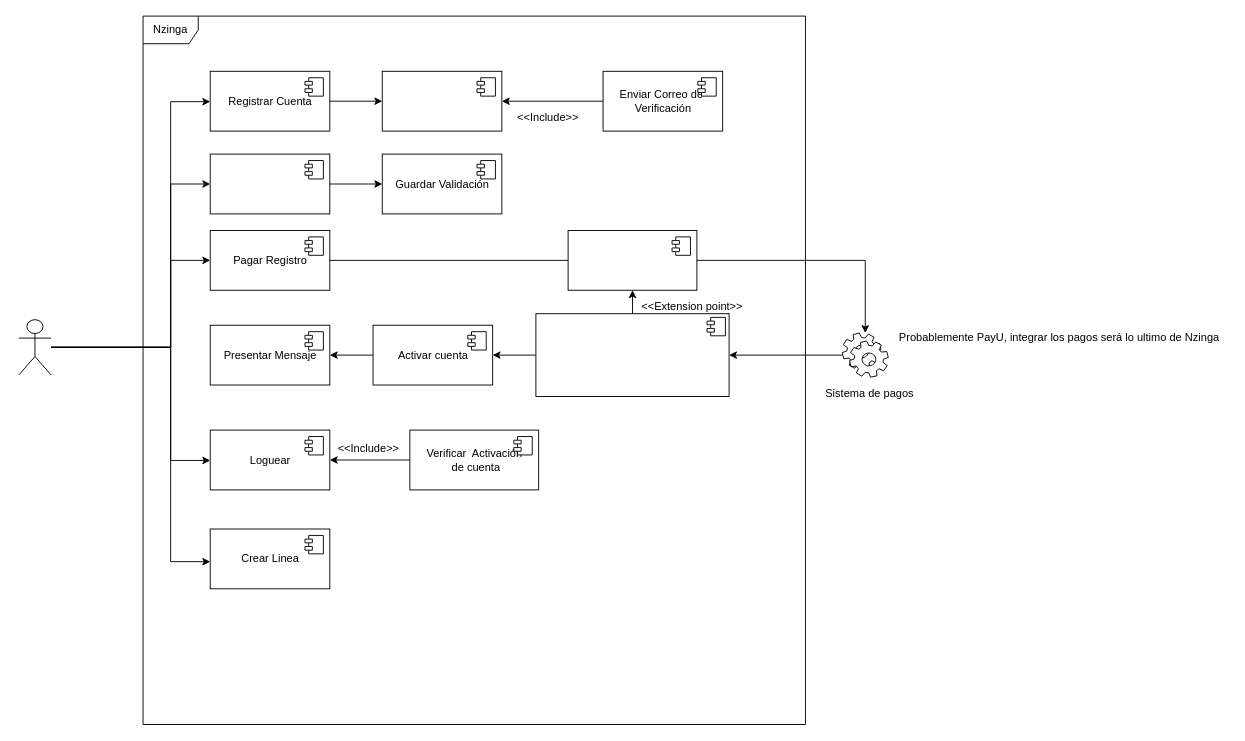
Image size: 1245x741. Some labels were removed from this diagram. The centre of each missing label's shape, as x and y in pixels:
Entidad: (x=34, y=347)
Guardar datos: (x=441, y=100)
Presentar Mensaje de error: (x=632, y=260)
Recibir resultado del cobro <<Extension point>> -Pago no exitoso: (x=632, y=355)
Valdiar Cuenta: (x=269, y=183)
